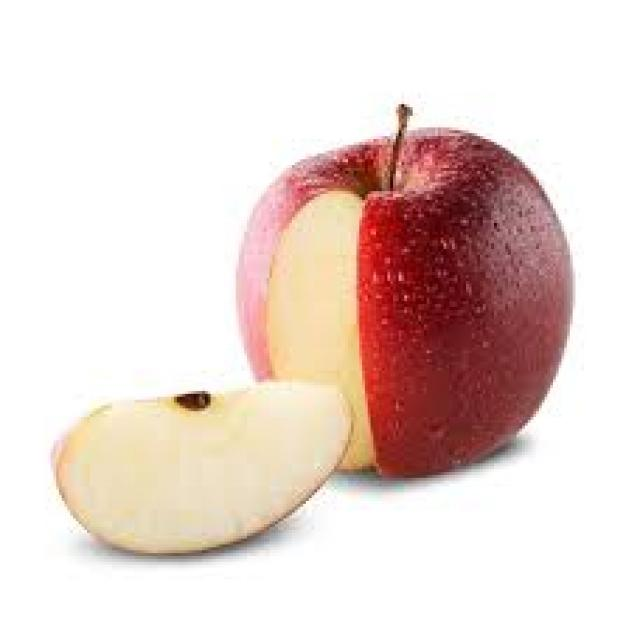Apple: (237, 130, 576, 476), (48, 381, 356, 560)
